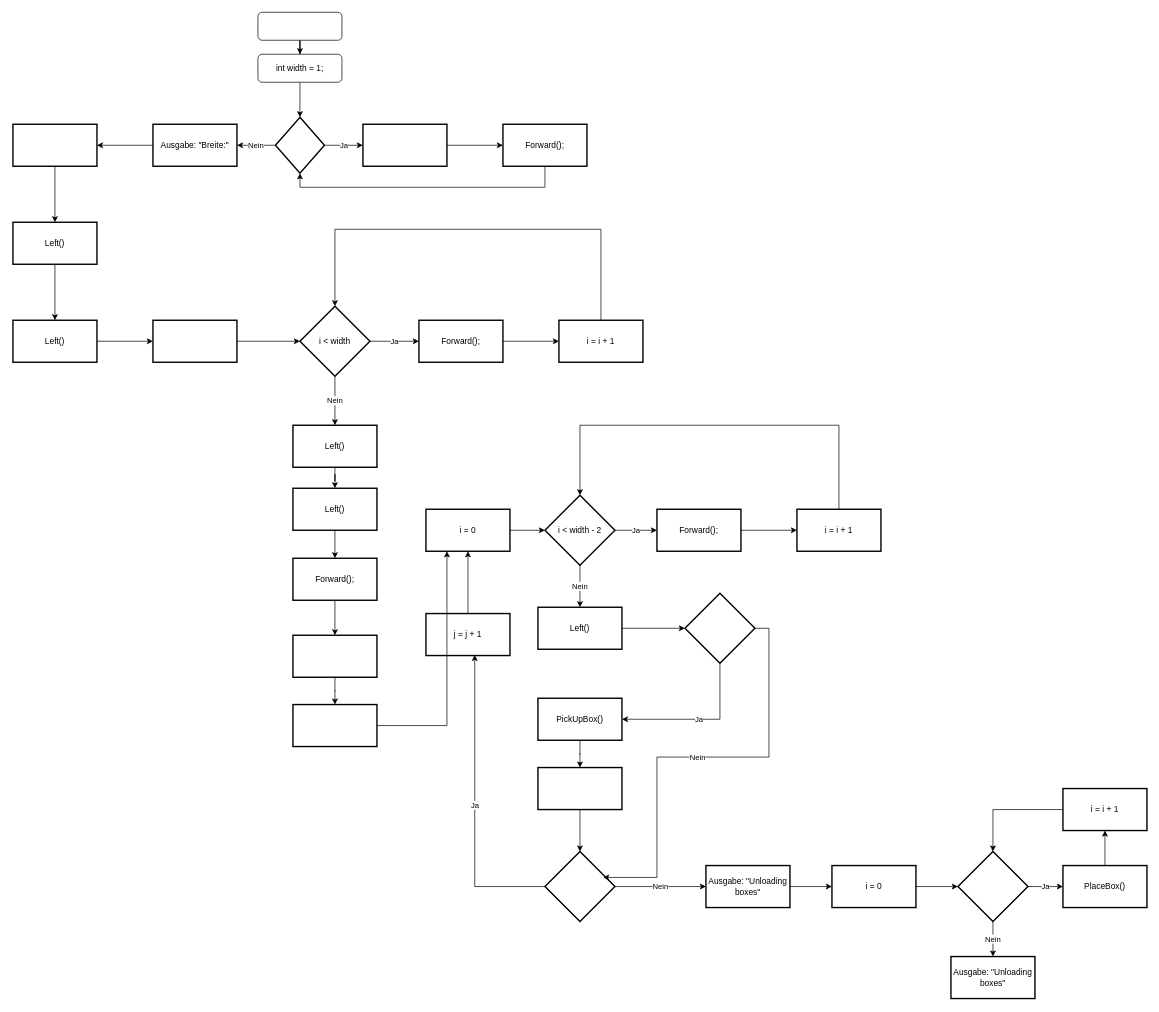
Some shapes in this 1159 by 1012 pixel diagram are drawn without their labels. Each missing label, with the centre of its shape:
Ausgabe: "Starte Programm": [299,26]
Ausgabe: width: [54,145]
boxes = boxes + 1: [579,788]
CanMove(): [299,145]
CellHasBox(): [719,628]
i < boxes: [992,886]
int boxes = 0: [334,725]
int i = 0: [194,341]
int j = 0: [334,656]
j < 3: [579,886]
width = width + 1;: [404,145]
